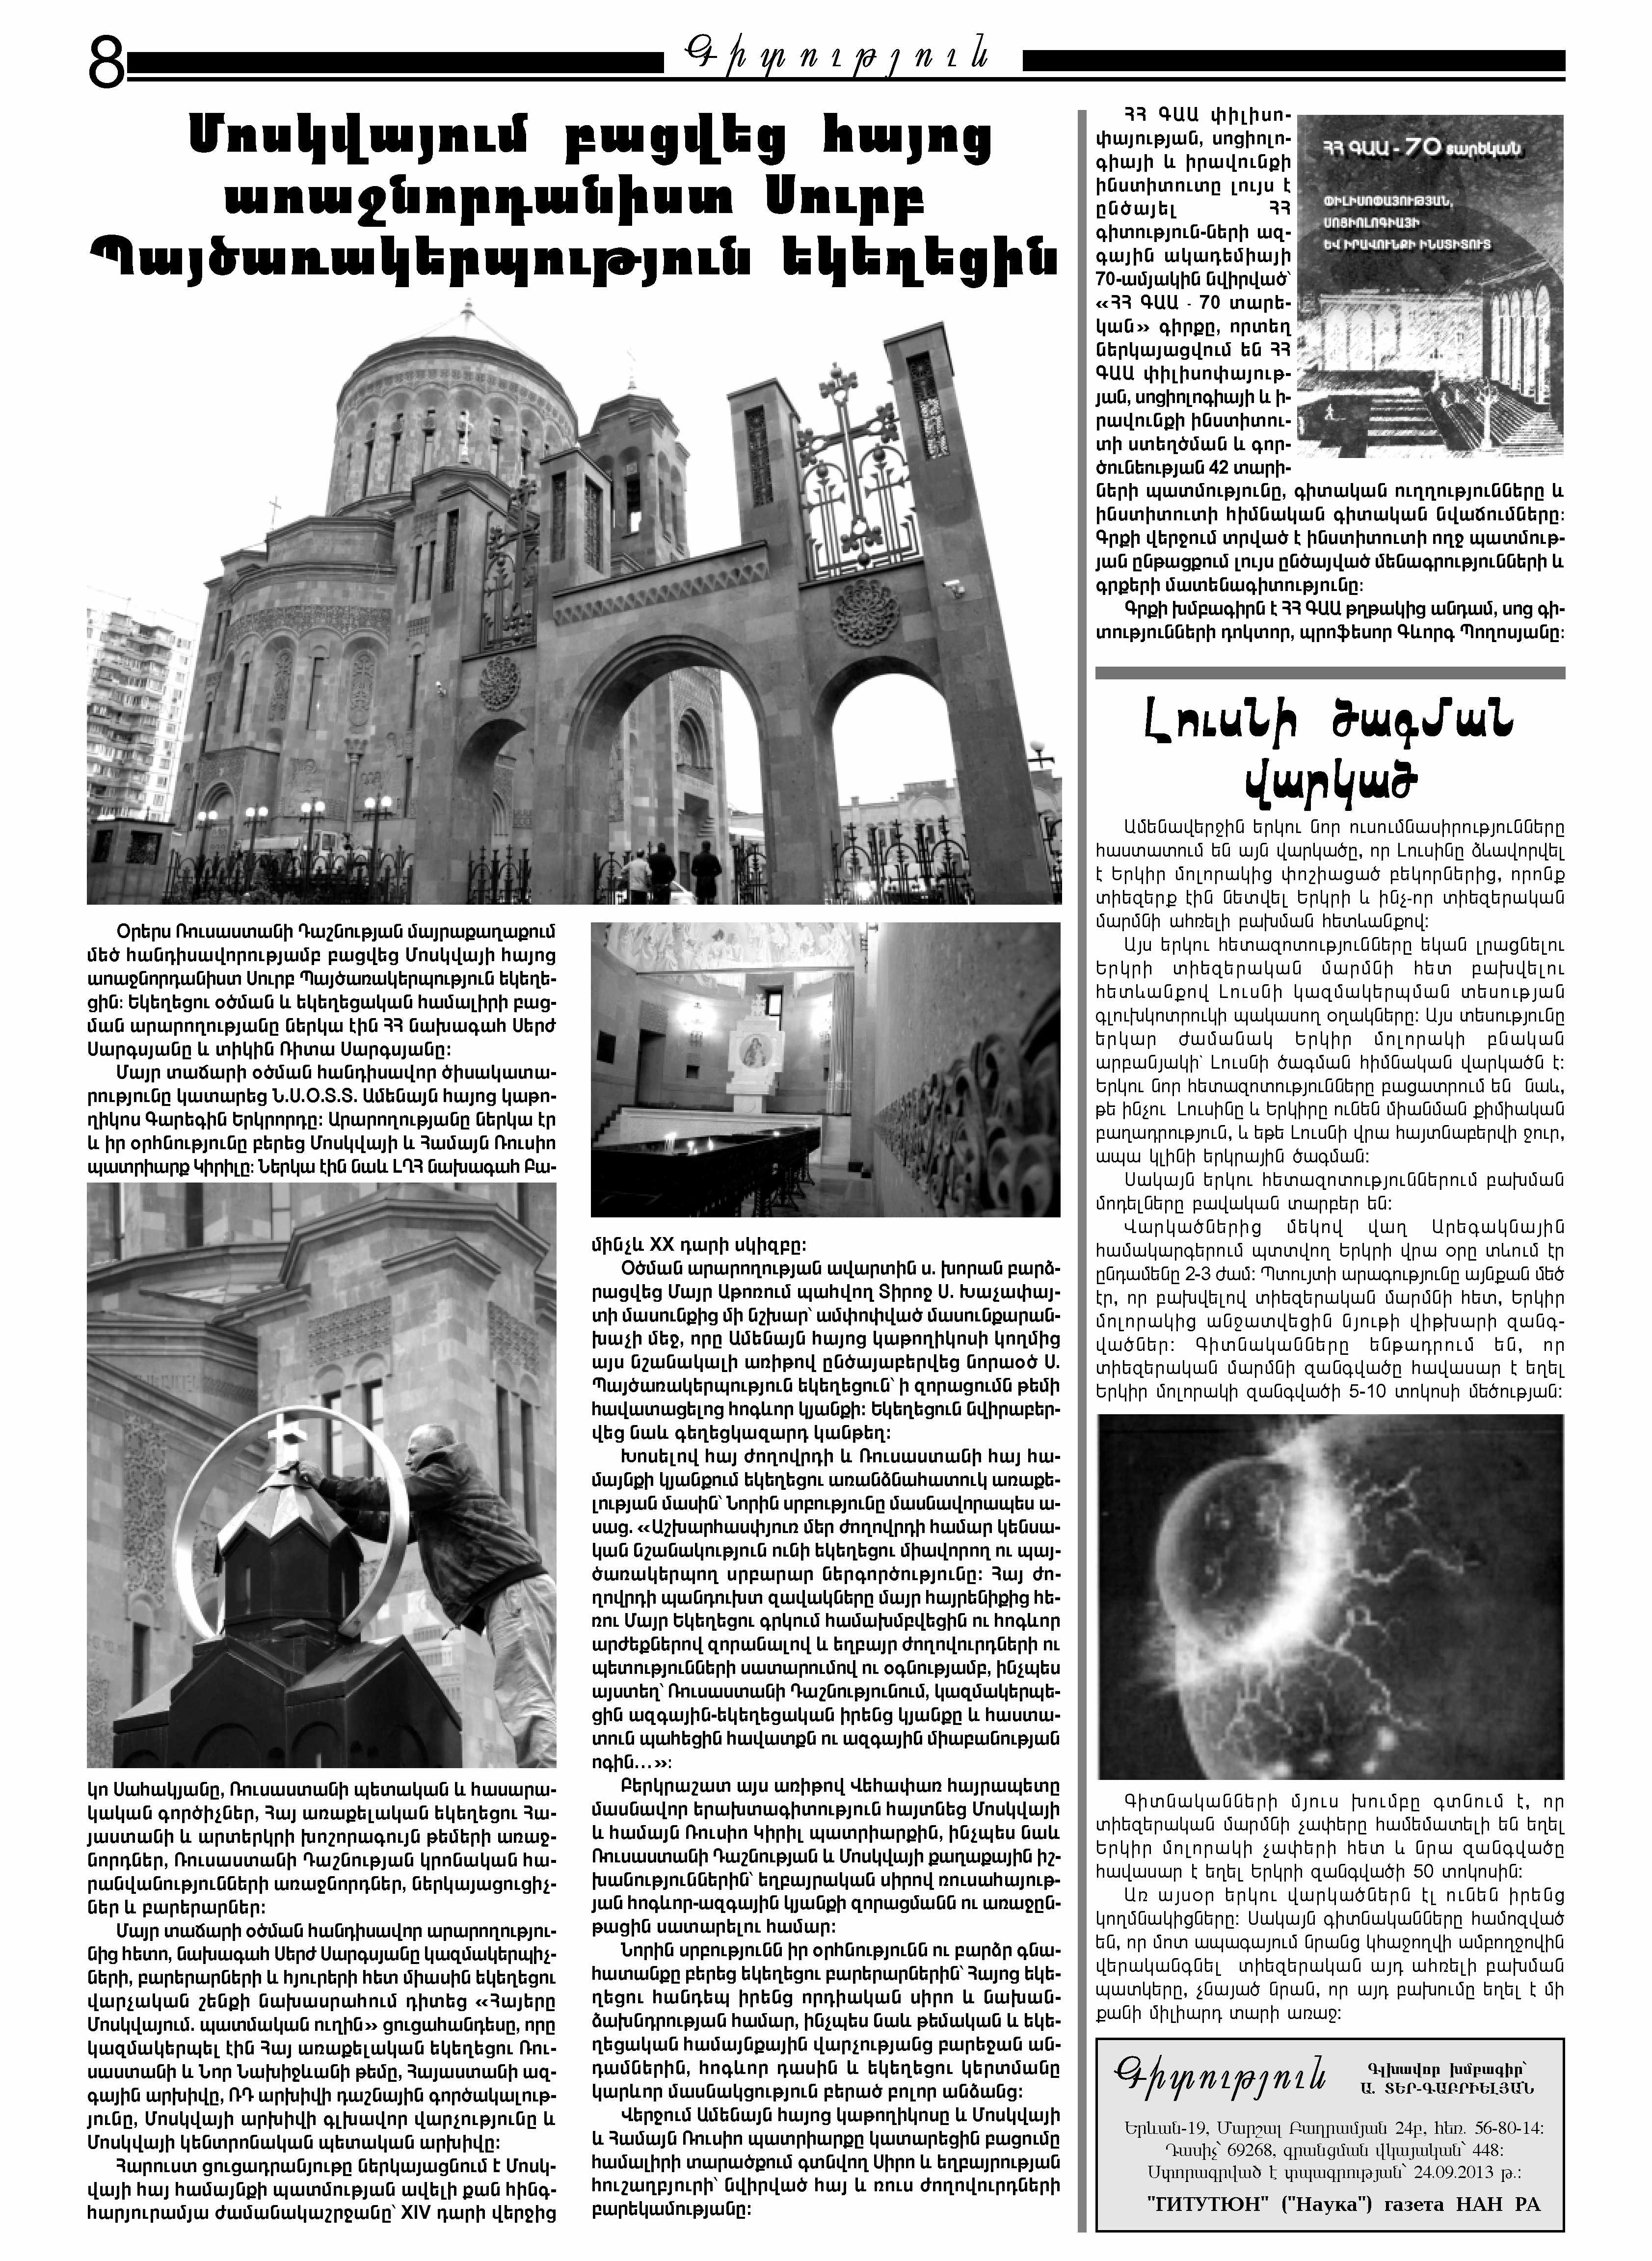person: (75, 1178, 562, 1776)
